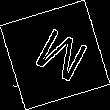M_SW: (23, 22, 87, 88)
